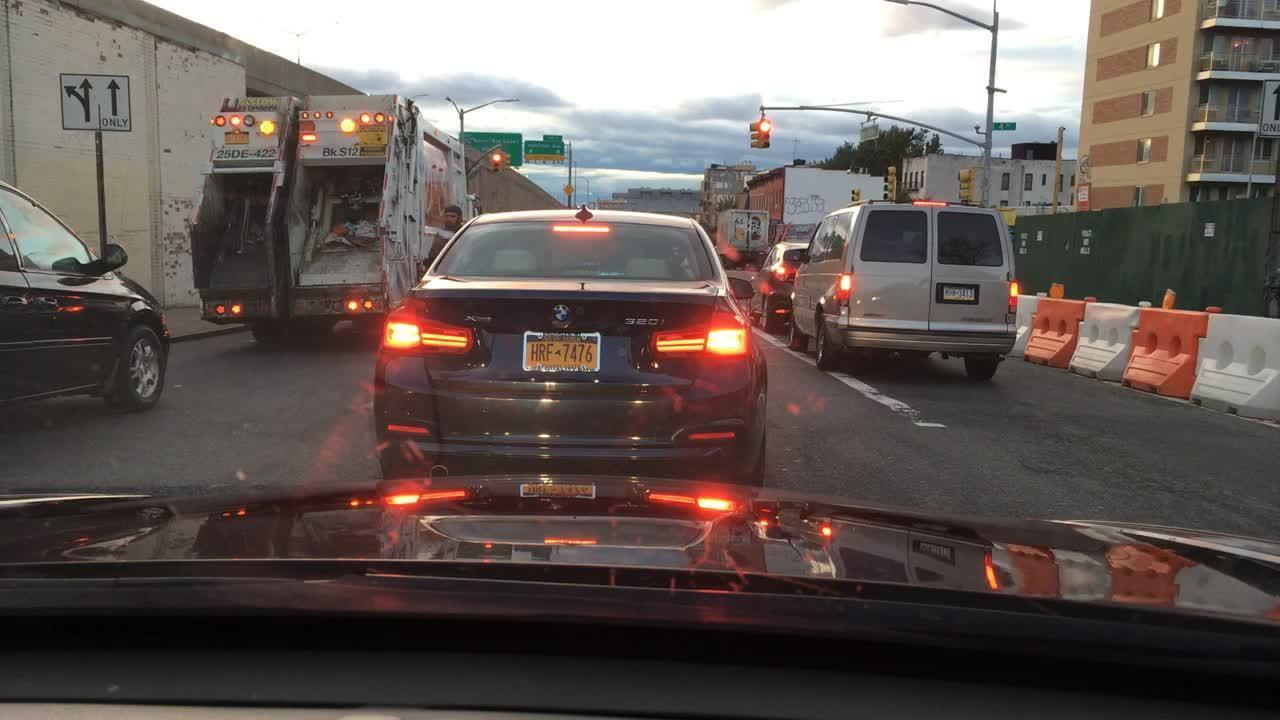bmw: (543, 295, 579, 335)
